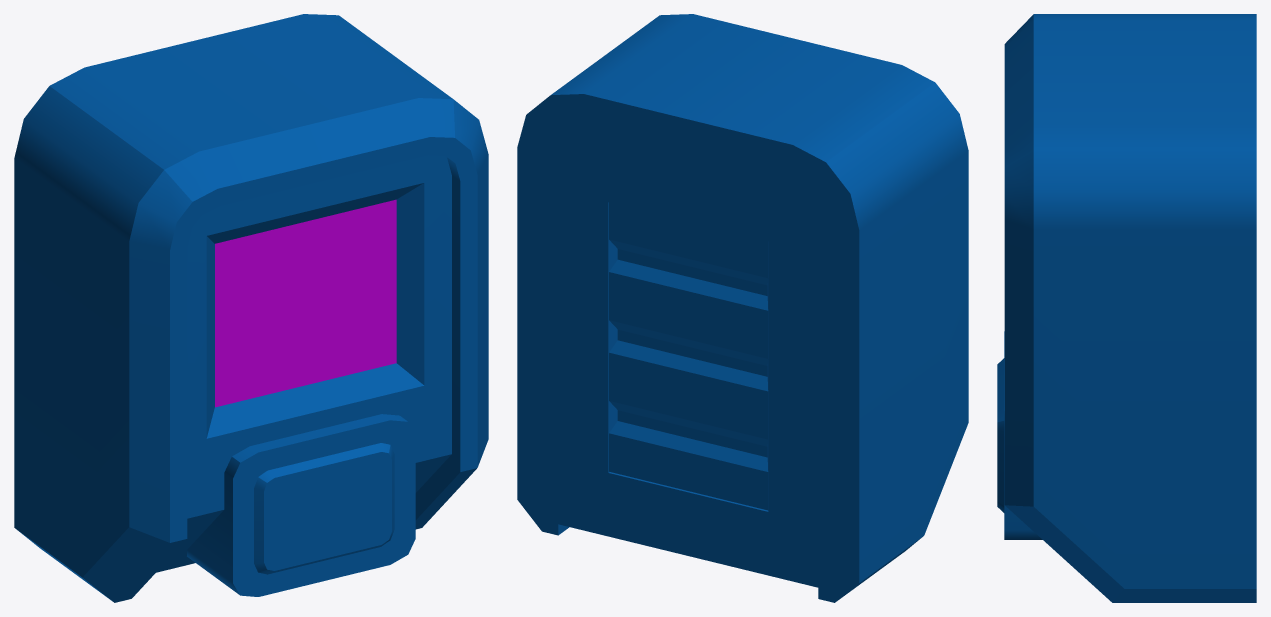
The model's file is obj_survivalobjects_elevatorcallbutton_pose0.fbx.
3 renders of one model, left to right at view 1: azimuth 30°, elevation 25°; view 2: azimuth 150°, elevation 25°; view 3: azimuth 270°, elevation 25°, orthographic. The views are drawn at different scales.
Parts seen in each view (by area): view 1: obj_warehouse_elevatorcallbutton_pose0; view 2: obj_warehouse_elevatorcallbutton_pose0; view 3: obj_warehouse_elevatorcallbutton_pose0.
Part boxes in pixels (x1,y1,x2,y2): obj_warehouse_elevatorcallbutton_pose0: (14, 14, 488, 602); obj_warehouse_elevatorcallbutton_pose0: (517, 14, 968, 602); obj_warehouse_elevatorcallbutton_pose0: (997, 14, 1256, 602).
Size of the model in its own units: 1.6 by 2 by 1.03.
